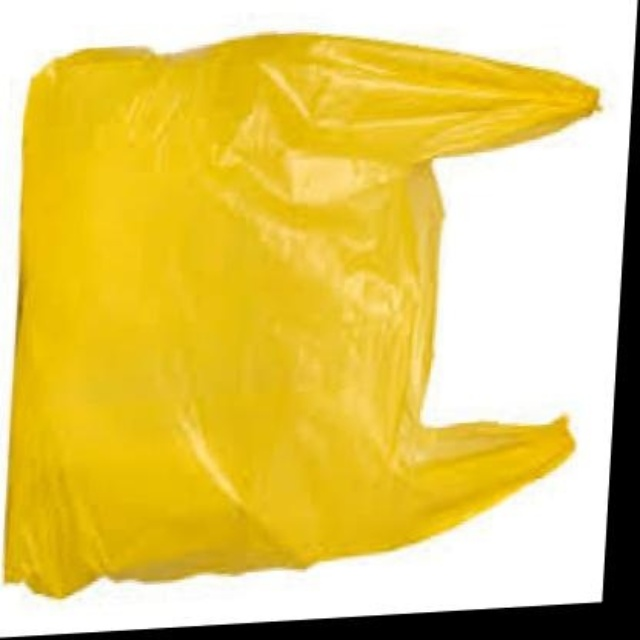trash: (5, 34, 597, 597)
